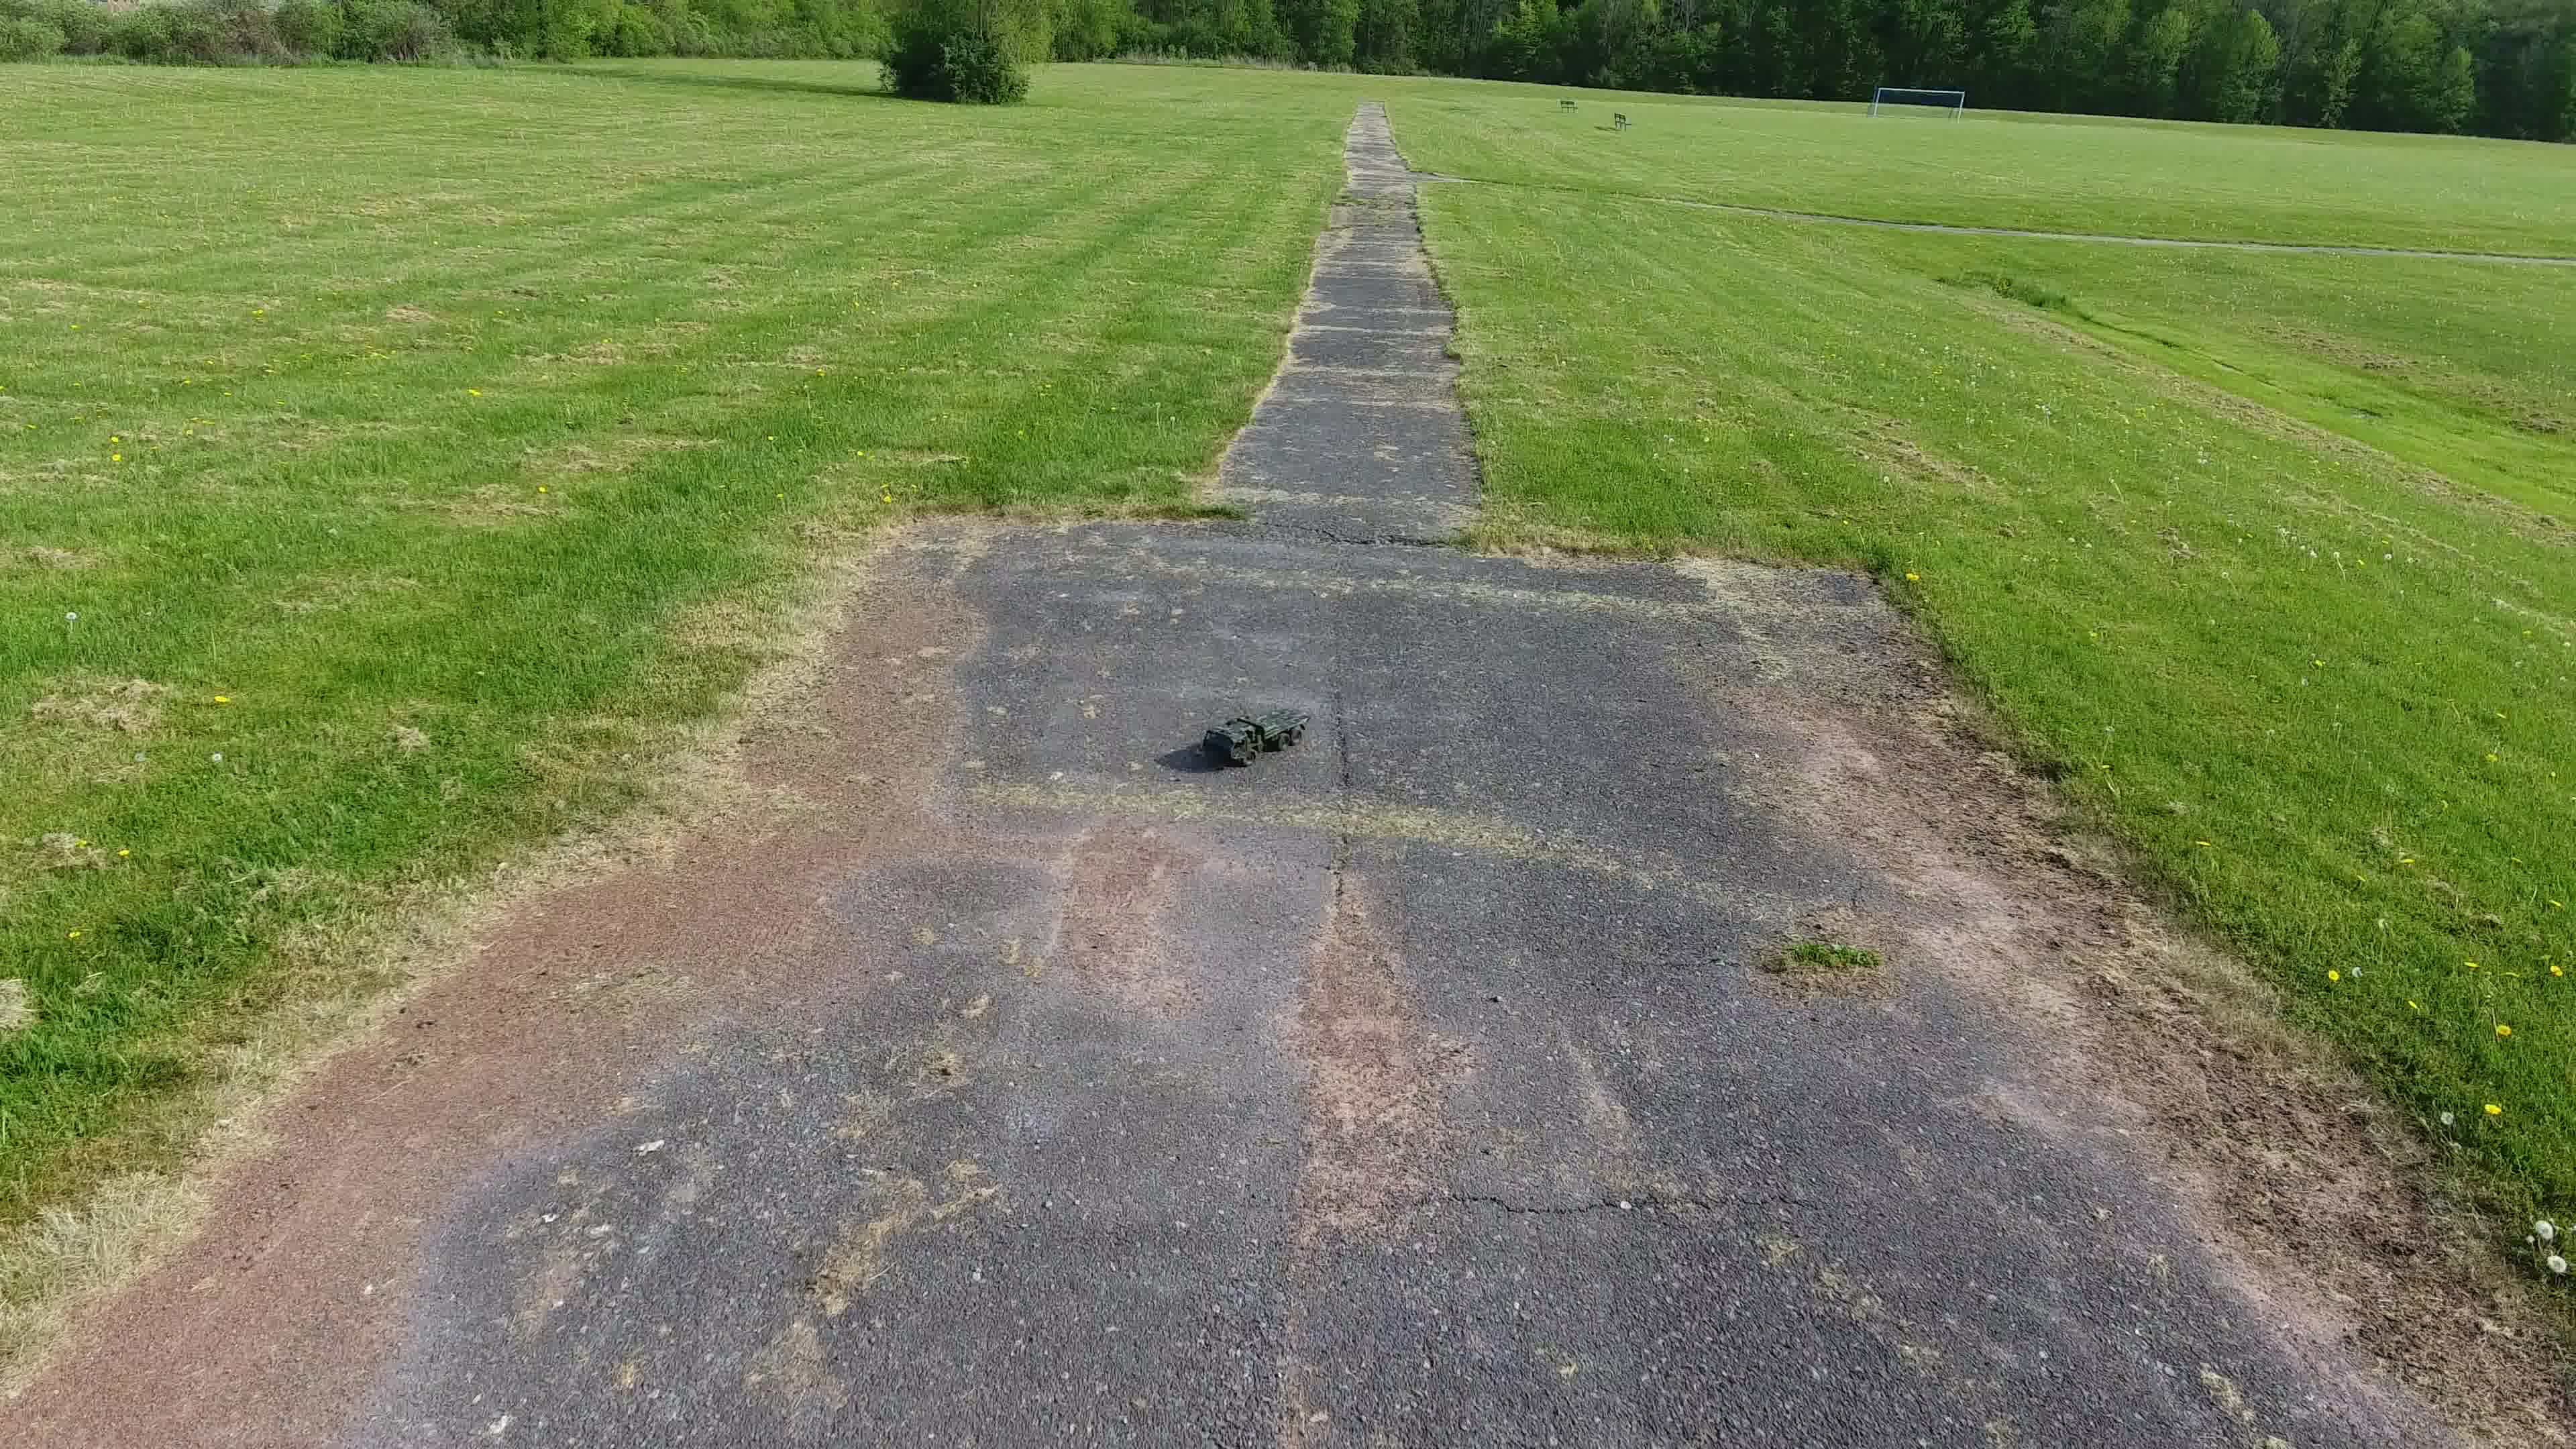transporter9_camo: (1196, 706, 1315, 770)
